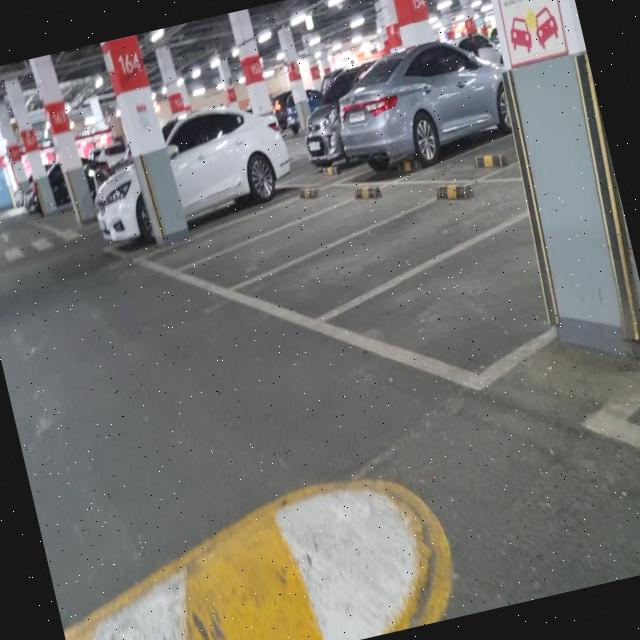empty: (213, 160, 545, 346), (301, 191, 567, 423), (166, 162, 464, 312), (122, 178, 370, 290)
occupied: (82, 97, 306, 270)
